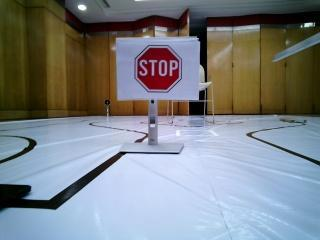stop: (119, 40, 192, 96)
